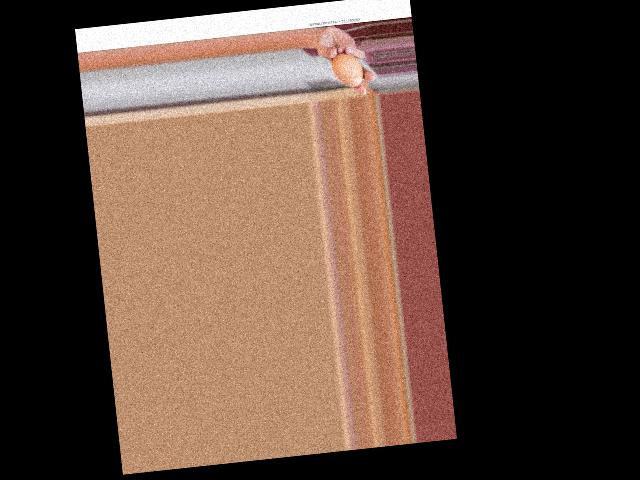egg: (331, 51, 365, 88)
